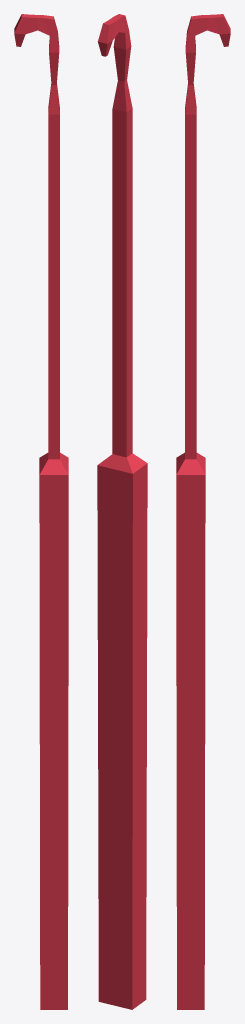
File: Rod.fbx
3 views of the same model, side by side, from view 1: azimuth 90°, elevation 25°; view 2: azimuth 150°, elevation 25°; view 3: azimuth 270°, elevation 25° (orthographic).
Visible parts, largest first — view 1: onki; view 2: onki; view 3: onki.
Part boxes in pixels (x1,y1,x2,y2): onki: (14, 14, 68, 1009); onki: (97, 14, 147, 1009); onki: (176, 14, 230, 1009).
Size of the model in its own units: 2.65 by 70.38 by 3.53.
